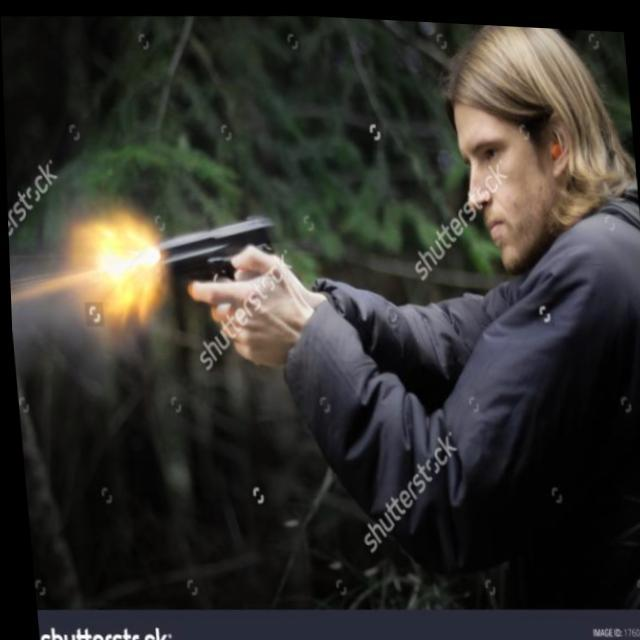weapon: (6, 200, 282, 323)
